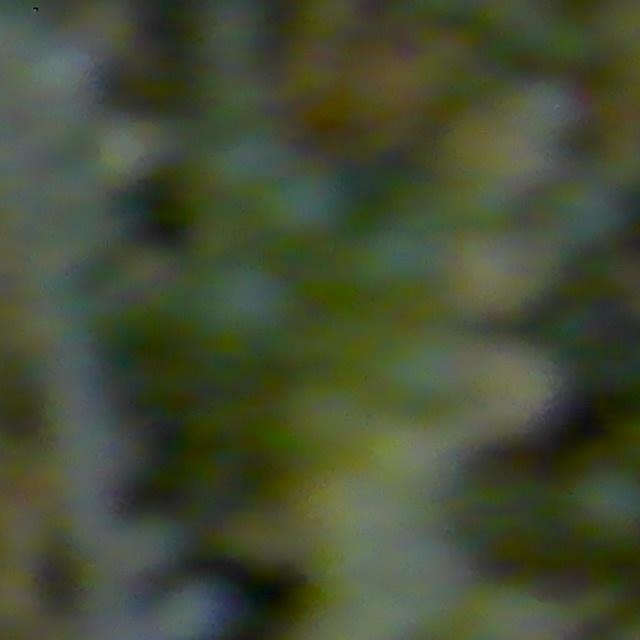SeaGrape: (373, 321, 471, 413), (197, 258, 292, 348), (261, 164, 351, 245), (204, 121, 292, 201), (568, 460, 639, 550), (194, 0, 270, 70), (300, 0, 366, 46)
